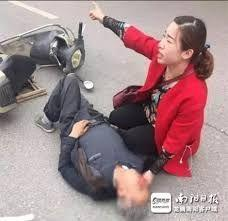Fall-Detected: (29, 70, 153, 211)
